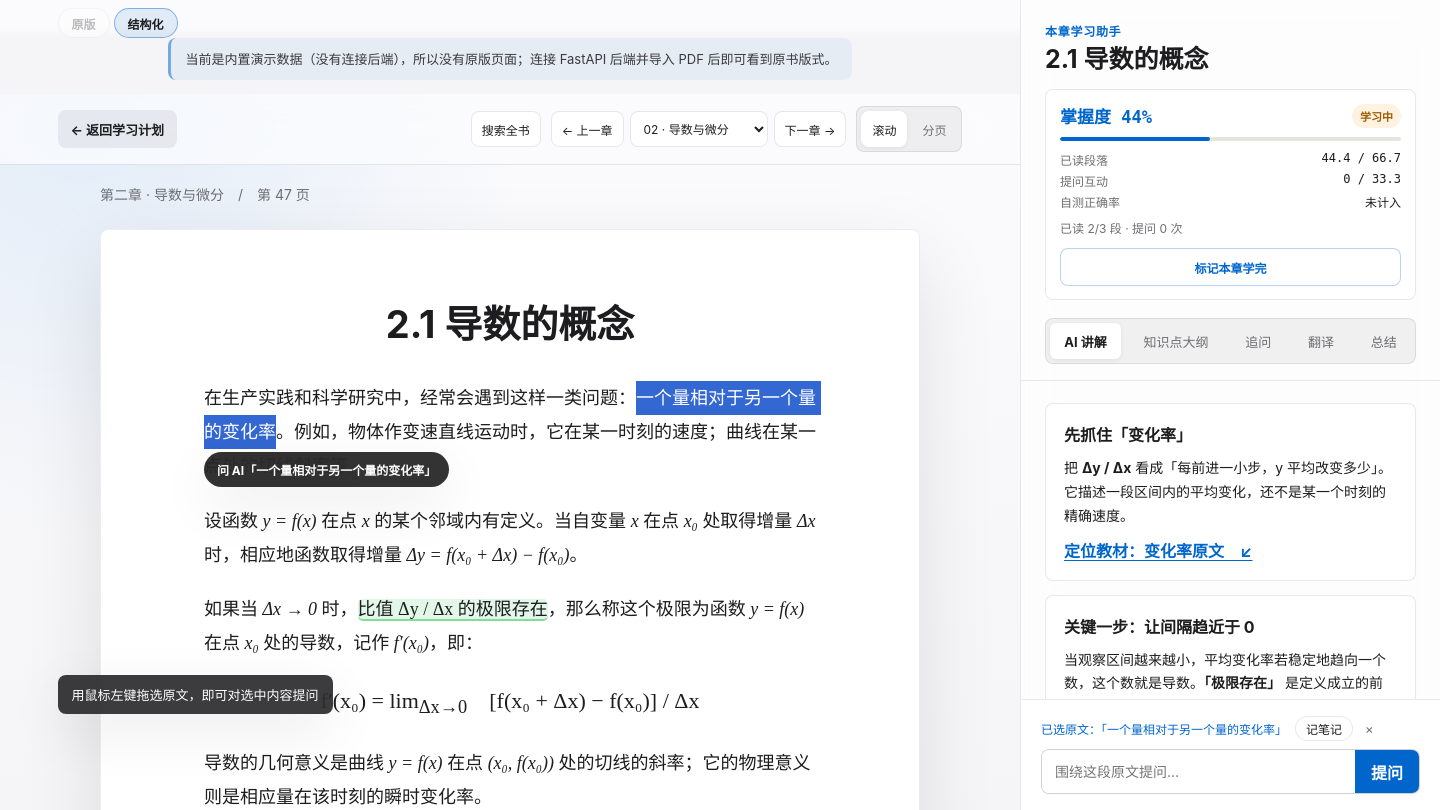
Scenario: 划词气泡与追问线程 › 气泡浮层可以拖动、可以关闭
Click the button with test id "selection-bubble" at (327, 469), box [204, 452, 449, 487]
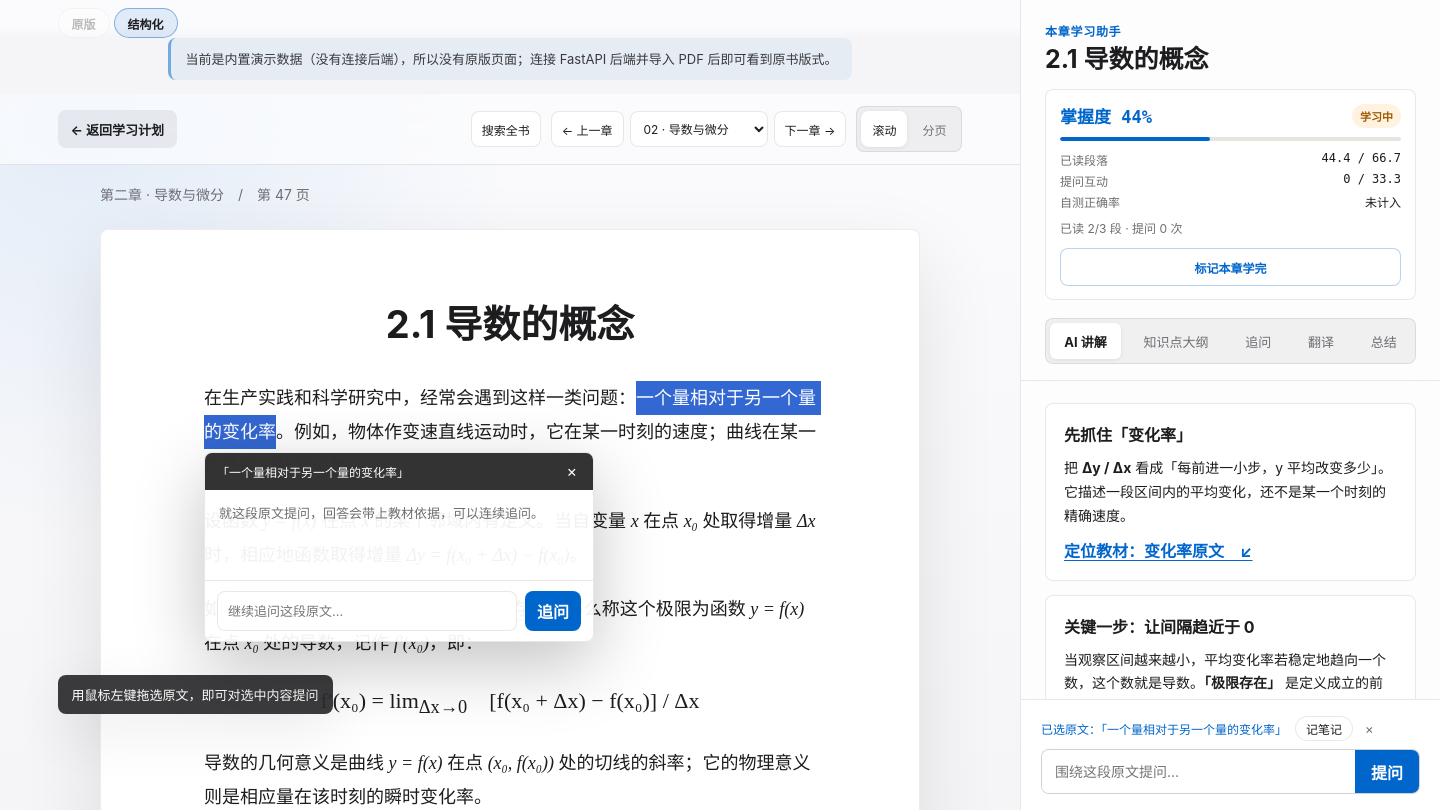
Press the mouse on the header with test id "selection-panel-handle" at (399, 471), box [205, 453, 593, 490]
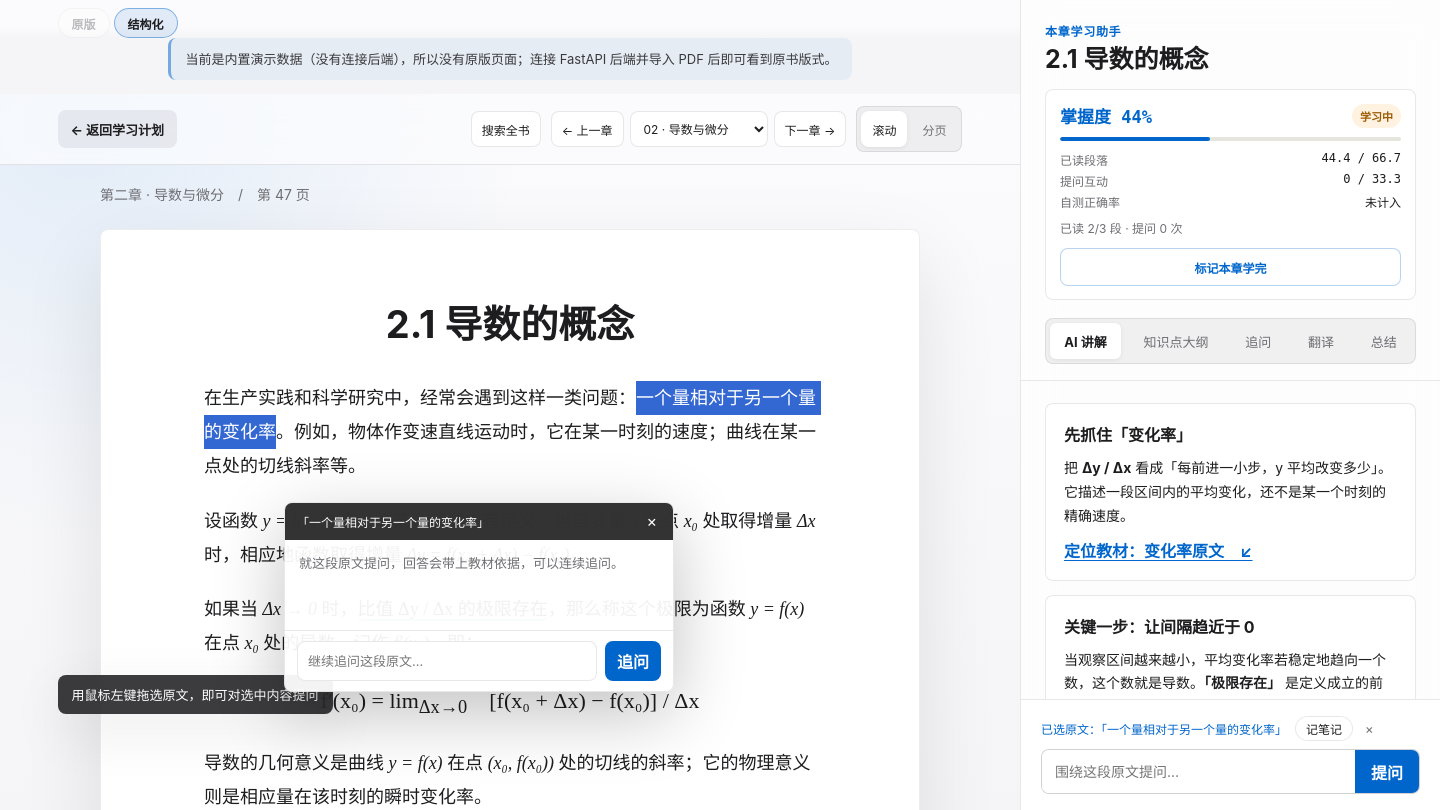
Click the button named "关闭追问气泡" at (652, 521), box [642, 513, 661, 529]
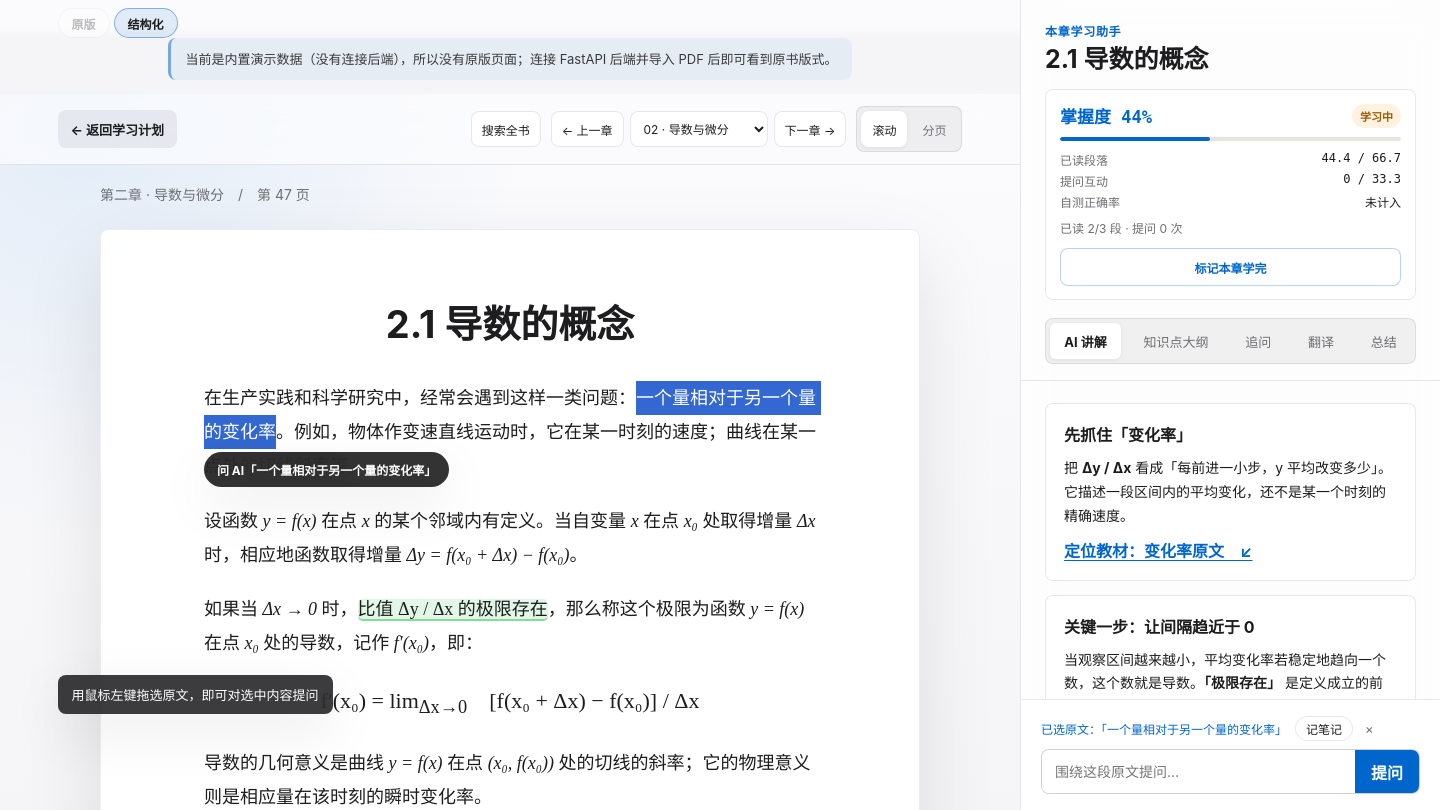
Now the dialog with test id "selection-panel" is gone
